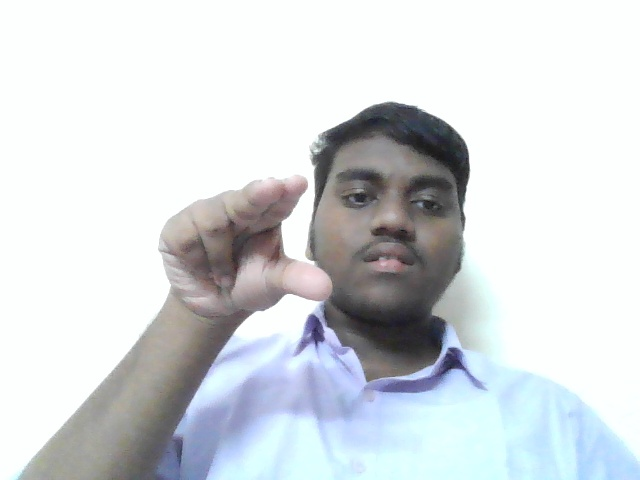No: (140, 171, 343, 320)
